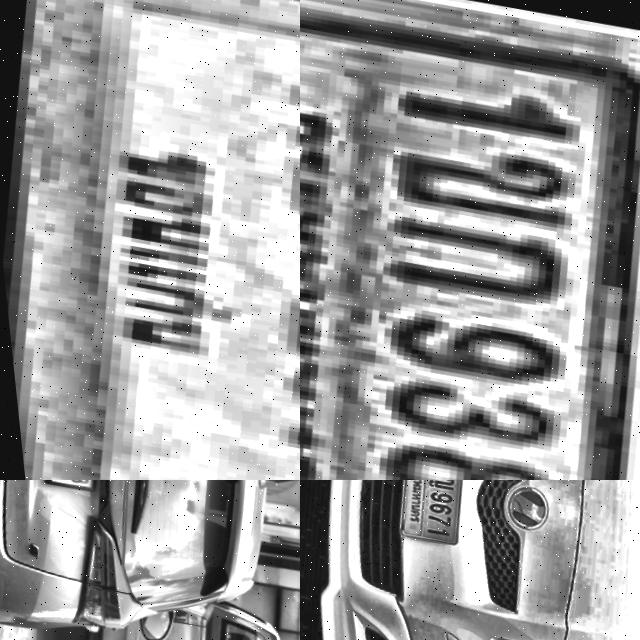license-plate: (300, 0, 640, 480), (0, 0, 300, 480), (379, 480, 470, 548)
